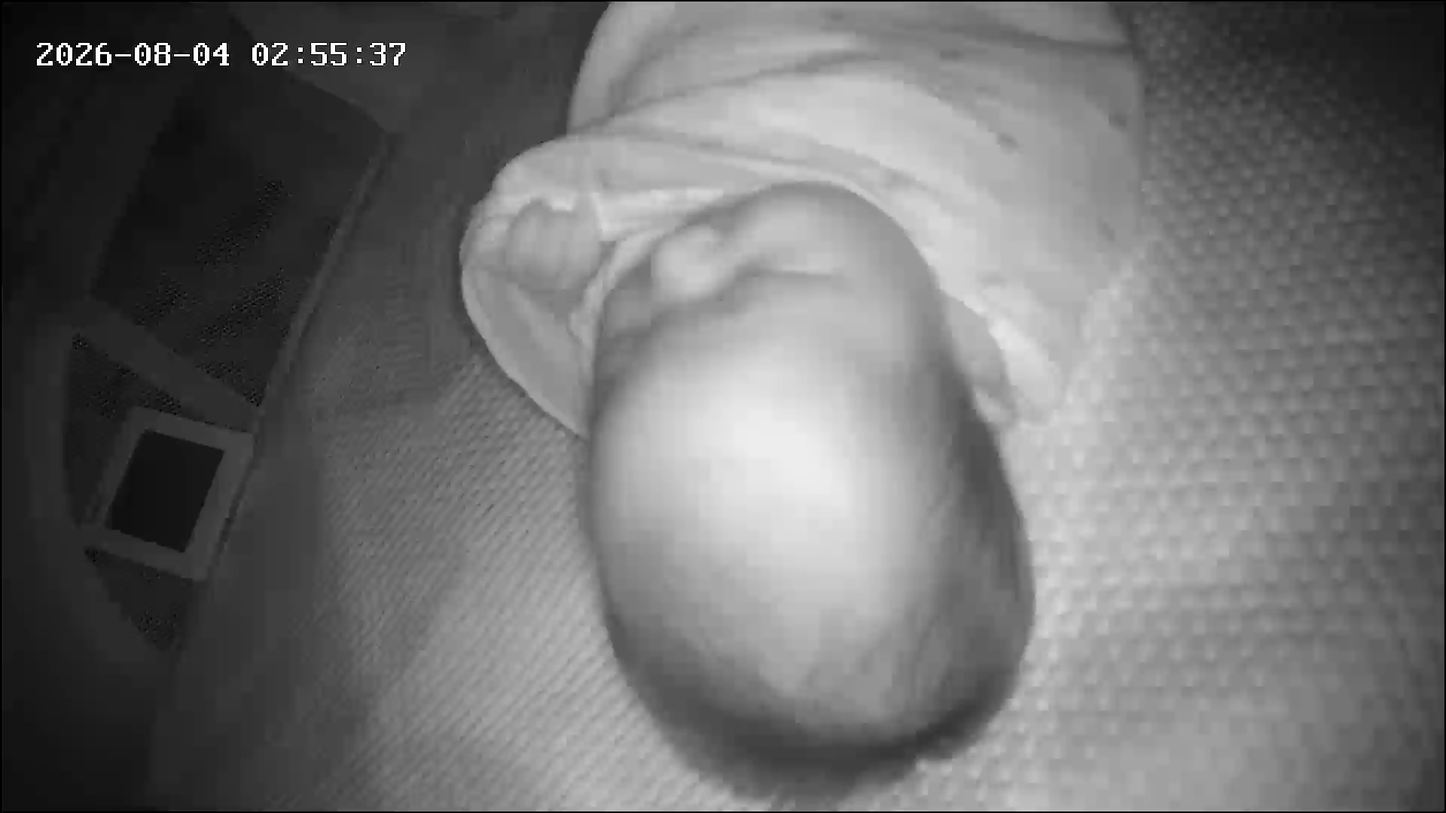baby: (0, 0, 1139, 801), (344, 2, 1192, 801)
baby_face: (569, 173, 1028, 791)
